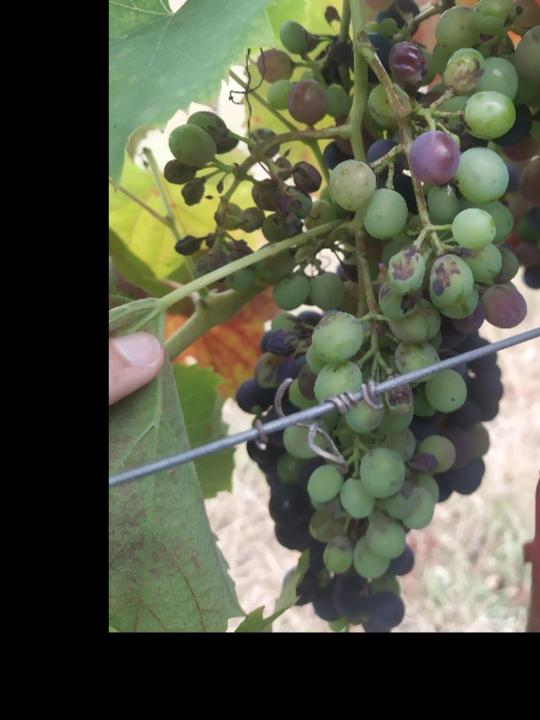grape: (159, 0, 540, 632)
